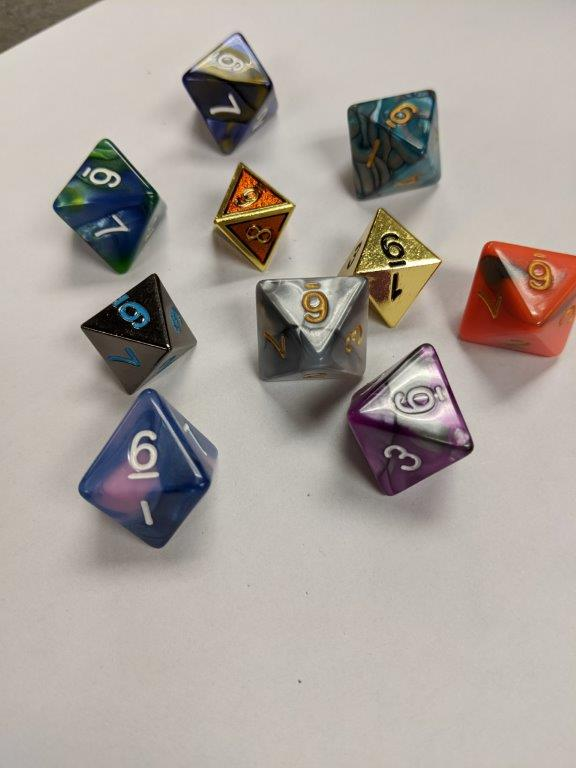d8-6: (77, 383, 224, 549), (347, 338, 477, 499), (48, 137, 163, 276), (74, 270, 197, 394), (451, 241, 576, 361), (339, 207, 440, 329), (255, 275, 369, 382), (181, 32, 277, 155), (347, 86, 442, 202), (211, 161, 300, 270)
